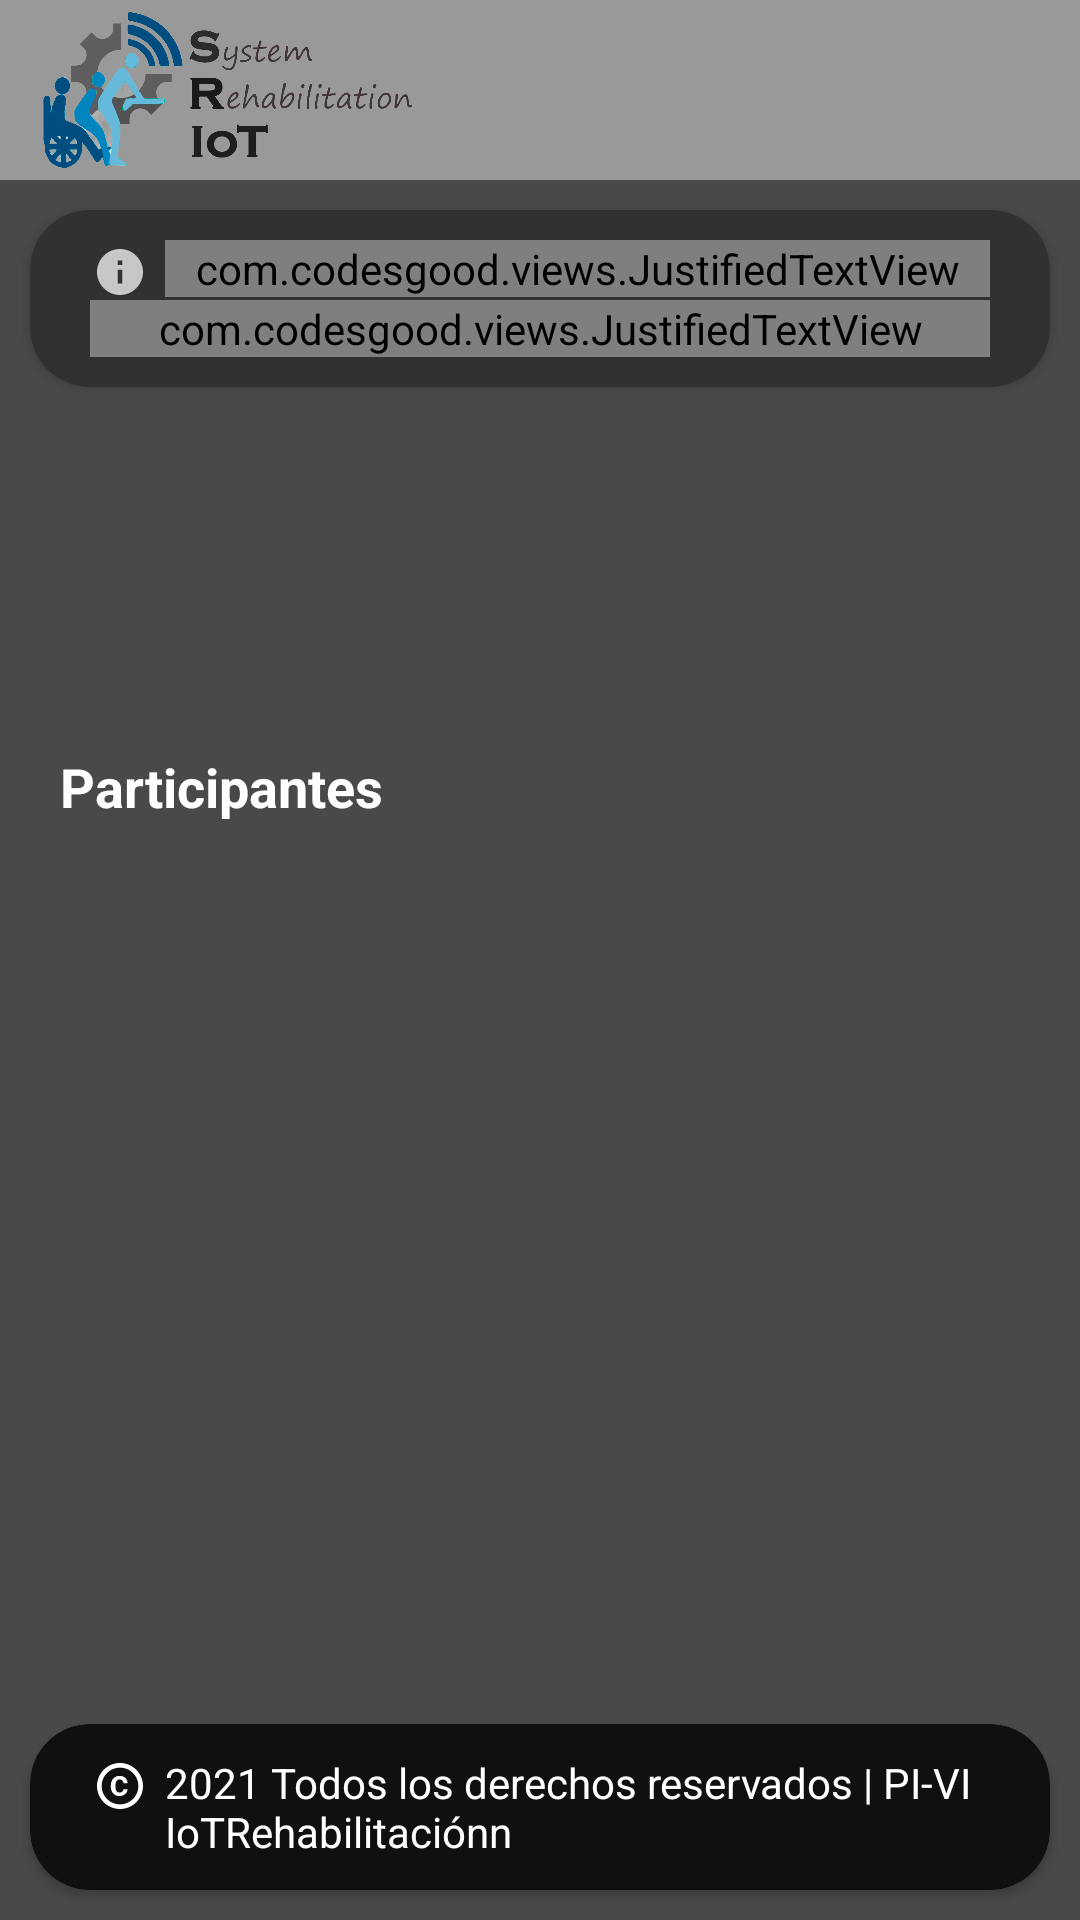

Icon click points for this 1080×1920 phone screenshot, format point (x, y):
copyright: point (120, 1786)
